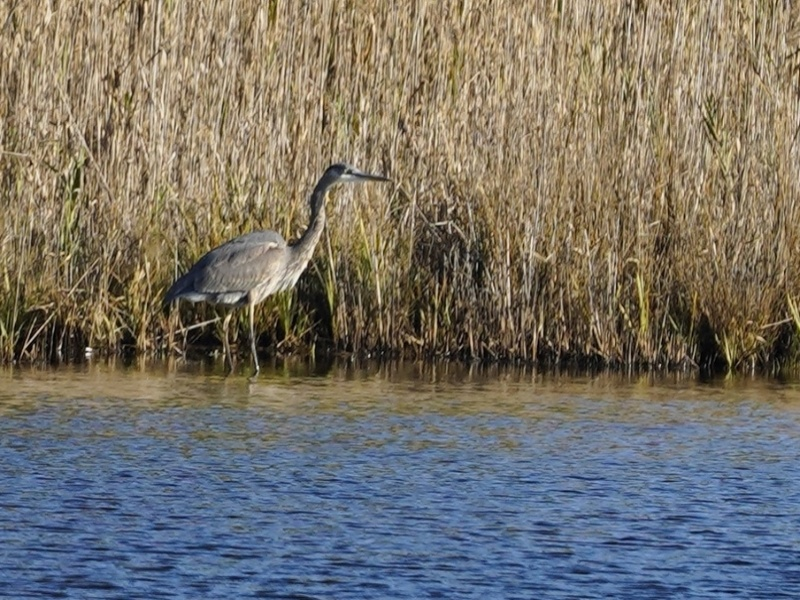heron: (161, 160, 394, 377)
